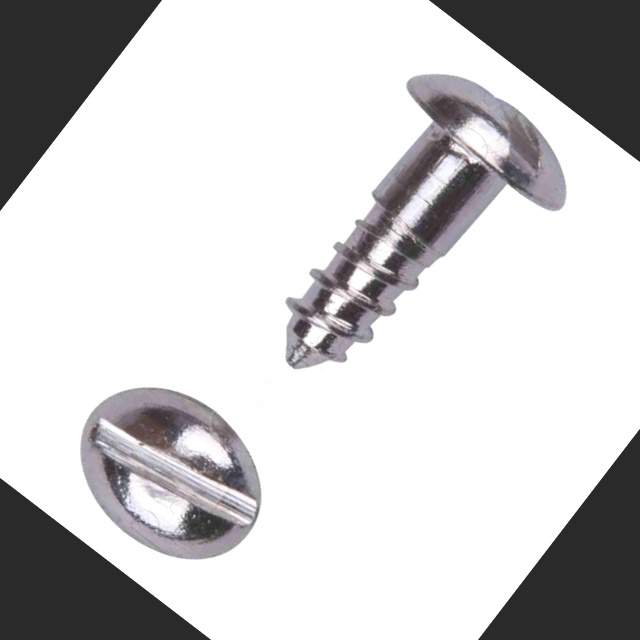duz: (43, 349, 296, 594)
